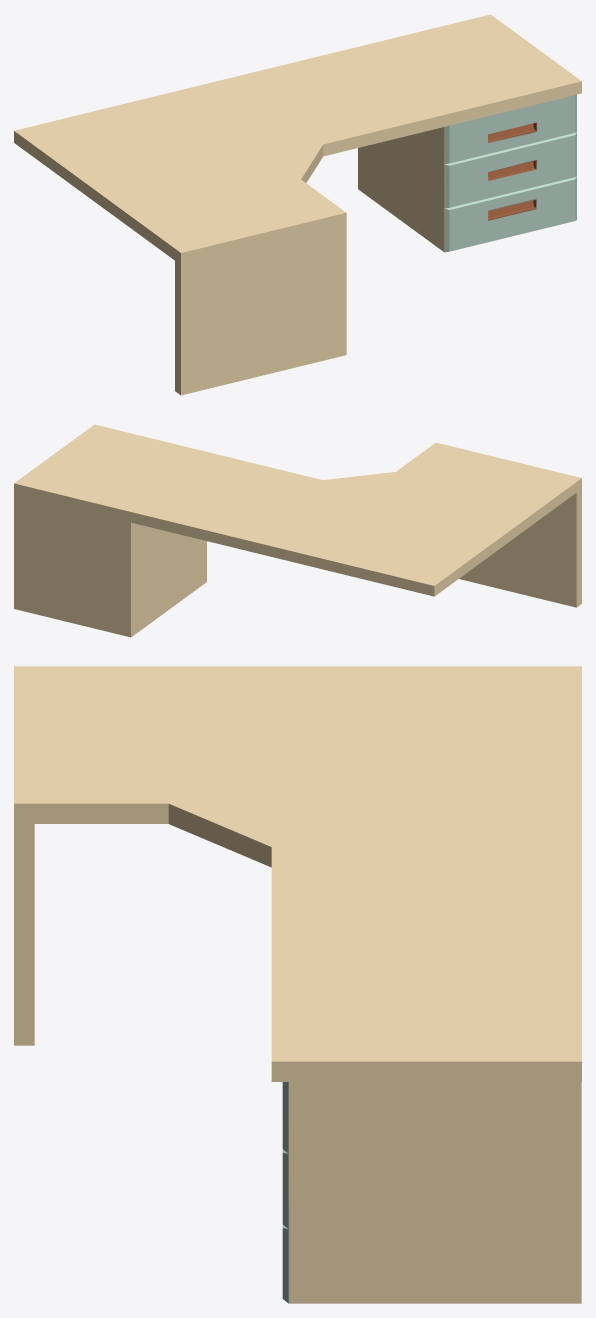
The model's file is scrivania_con_texture.fbx.
3 views of the same model, one above another, from view 1: azimuth 30°, elevation 25°; view 2: azimuth 150°, elevation 25°; view 3: azimuth 270°, elevation 25° (orthographic). The views are drawn at different scales.
Visible parts, largest first — view 1: pCube3; view 2: pCube3; view 3: pCube3.
Part boxes in pixels (bbox=[...]): pCube3: bbox=[14, 14, 581, 395]; pCube3: bbox=[14, 424, 581, 637]; pCube3: bbox=[14, 666, 581, 1303].
Size of the model in its own units: 9.15 by 2.61 by 5.56.
